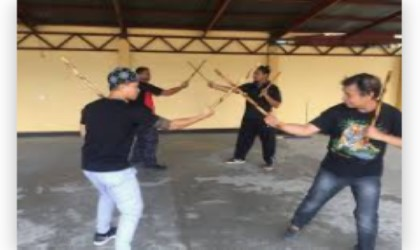baston_e: (219, 69, 262, 118), (64, 56, 98, 98), (214, 76, 239, 109)
baston_v: (57, 53, 70, 64), (211, 65, 218, 74), (276, 69, 283, 77), (256, 91, 262, 99), (184, 58, 189, 62), (203, 57, 207, 61)
